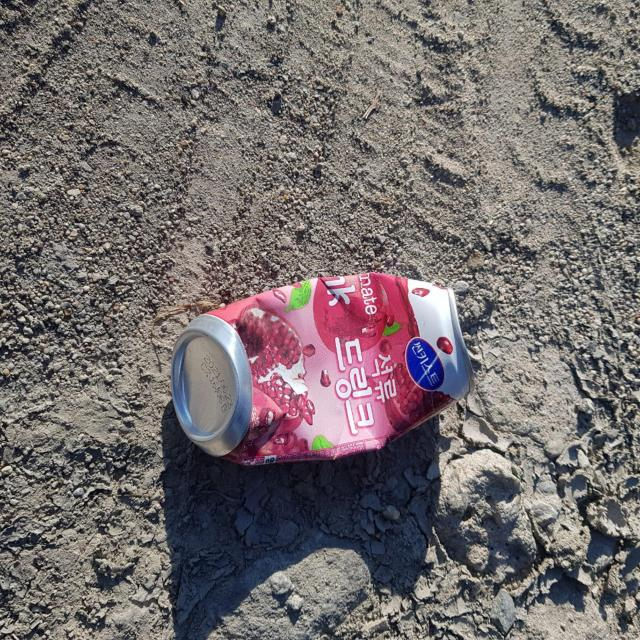can: (171, 273, 474, 466)
